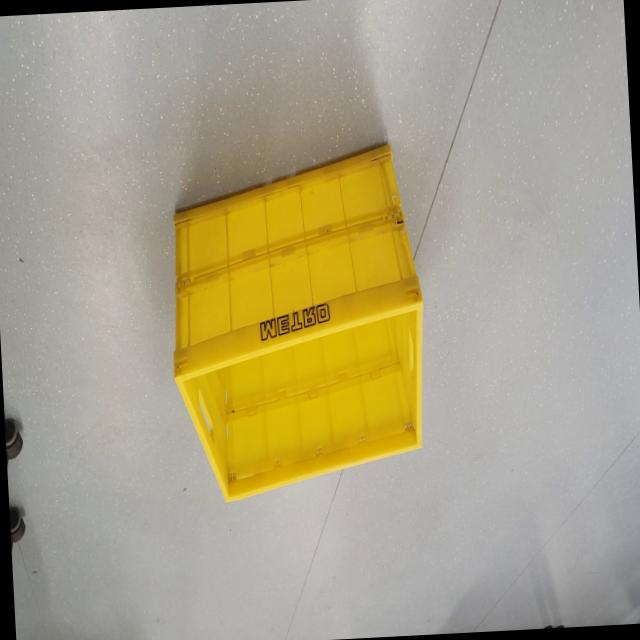box: (150, 109, 440, 521)
